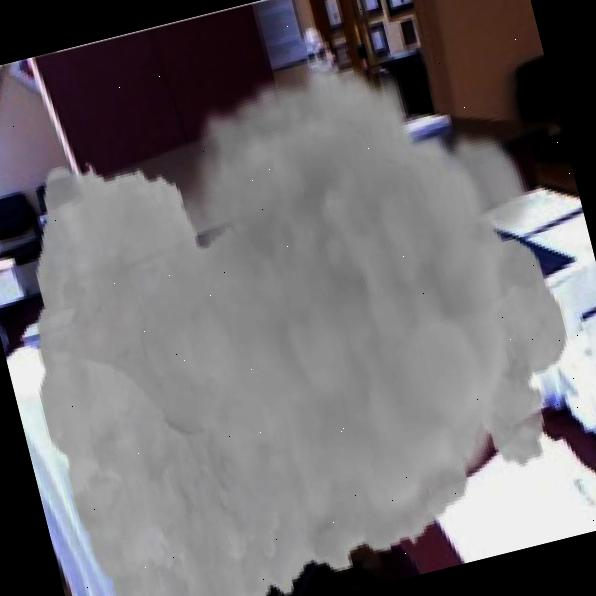smoke: (0, 13, 596, 596)
